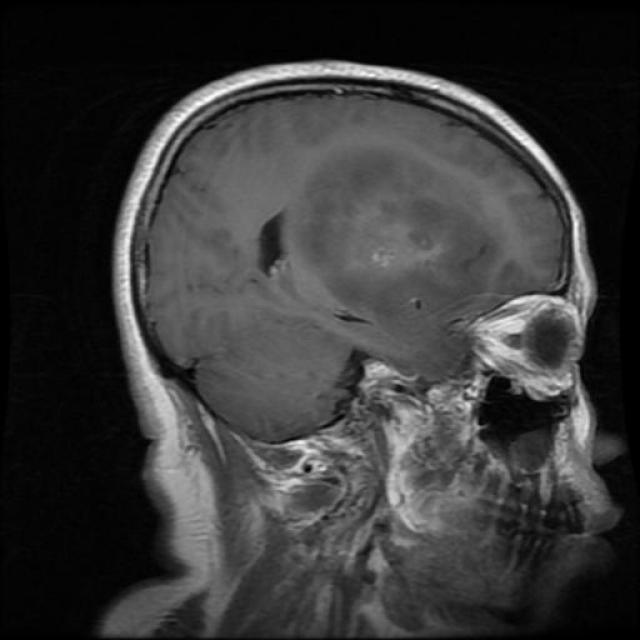Brain-Tumor: (288, 125, 497, 344)
eye: (461, 290, 595, 404)
